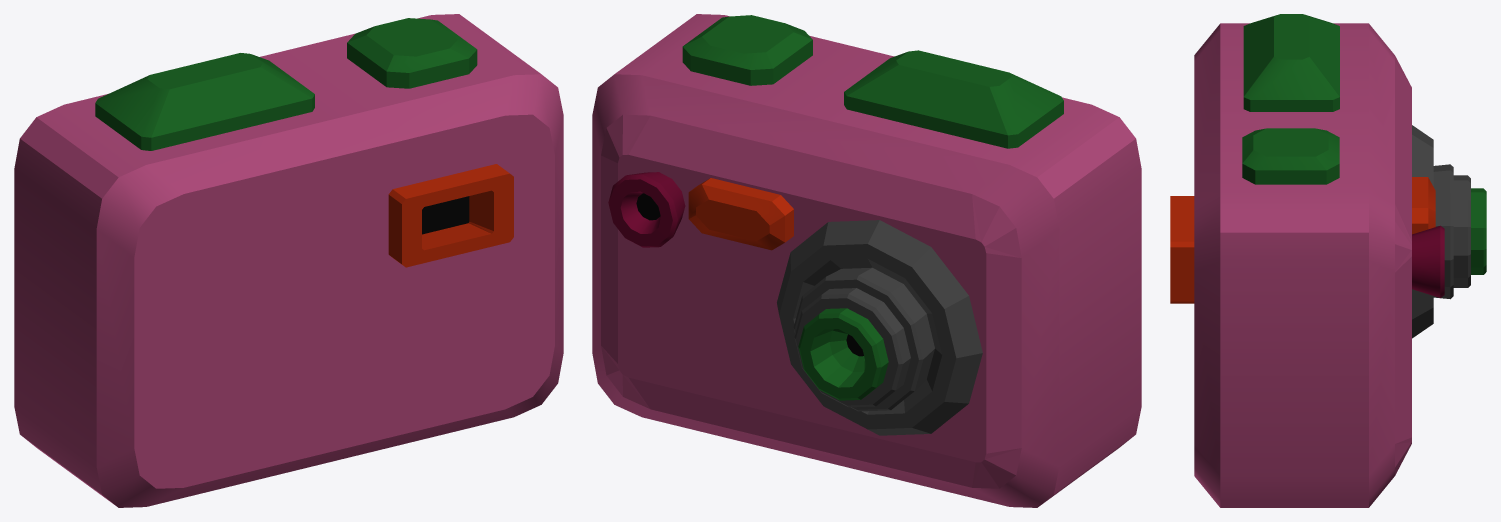
File: Camera-1.FBX
3 renders of one model, left to right at view 1: azimuth 30°, elevation 25°; view 2: azimuth 150°, elevation 25°; view 3: azimuth 270°, elevation 25°, orthographic. The views are drawn at different scales.
Visible parts, largest first — view 1: Camera-1; view 2: Camera-1; view 3: Camera-1.
Boxes of the visible parts, x1,y1,x2,y2 form: Camera-1: (14, 14, 563, 507); Camera-1: (592, 14, 1141, 507); Camera-1: (1170, 14, 1486, 507).
Bounding box in the file's own units: 1000 × 651 × 784.
